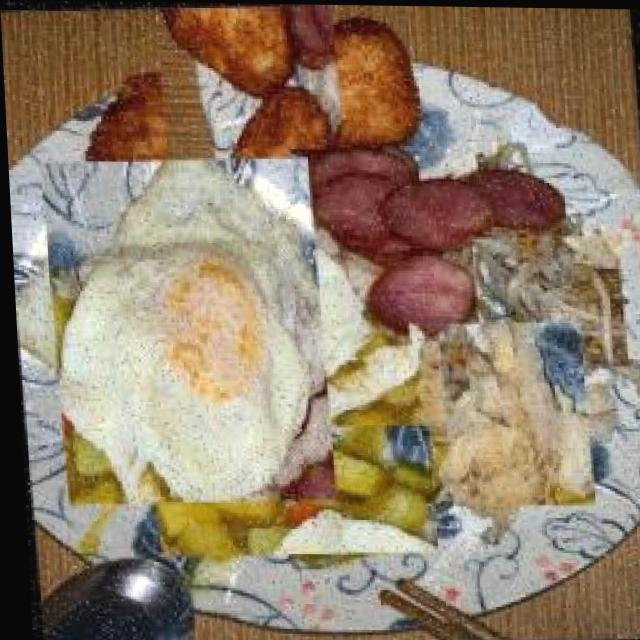chinese_cabbage: (425, 327, 600, 497)
chinese_sausage: (289, 138, 577, 345)
curry: (145, 421, 434, 563)
fried_eggs: (19, 170, 350, 492)
mung_bean_sprouts: (467, 232, 626, 372)
rice: (245, 171, 312, 237)
triangle_hash_brown: (112, 1, 390, 242)
